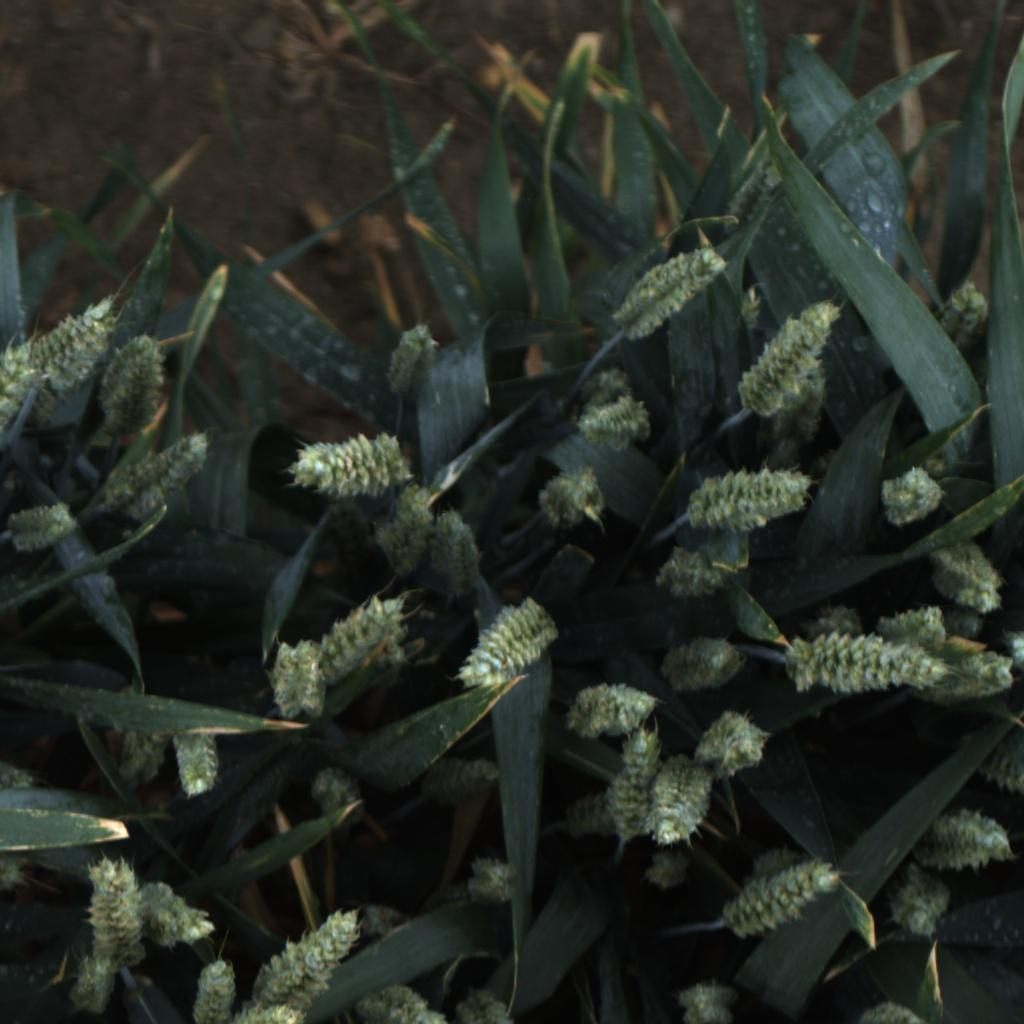0-0: (731, 299, 841, 427), (784, 626, 947, 707), (607, 247, 728, 354), (255, 899, 364, 1005), (676, 461, 817, 541), (723, 851, 842, 942), (456, 590, 557, 695), (109, 428, 217, 524), (289, 424, 414, 503), (322, 582, 414, 685), (26, 298, 117, 402), (604, 722, 670, 857), (366, 485, 446, 585), (77, 846, 143, 964), (103, 330, 173, 440), (641, 755, 721, 849), (914, 799, 1015, 873), (882, 855, 958, 947), (263, 632, 334, 727), (927, 534, 1010, 615), (658, 630, 751, 702), (52, 939, 132, 1021), (561, 676, 658, 743), (720, 148, 789, 242), (918, 273, 994, 357), (926, 643, 1017, 713), (138, 870, 214, 953), (296, 756, 375, 835), (94, 720, 173, 799), (865, 464, 947, 539), (528, 461, 612, 533), (694, 705, 770, 784), (769, 358, 830, 456), (569, 392, 663, 454), (416, 751, 504, 815), (383, 313, 440, 409), (868, 590, 957, 648), (0, 336, 33, 491), (5, 493, 80, 561), (430, 495, 489, 581), (566, 360, 649, 421), (167, 725, 228, 802), (956, 730, 1024, 799), (651, 543, 726, 601), (456, 848, 526, 909), (180, 955, 238, 1024), (359, 981, 445, 1024), (675, 975, 741, 1024), (564, 791, 627, 841), (802, 603, 867, 651), (456, 989, 541, 1024), (0, 834, 38, 907), (230, 997, 318, 1024), (854, 995, 931, 1024), (358, 903, 420, 939), (643, 850, 696, 891), (942, 604, 987, 646), (0, 753, 37, 796), (739, 284, 764, 333), (999, 625, 1024, 673)
